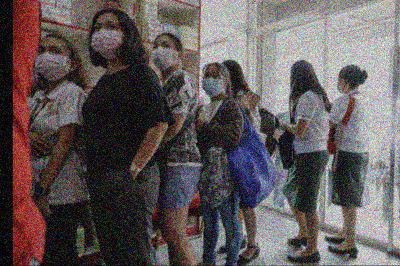with_mask: (89, 19, 124, 60), (35, 42, 71, 81), (151, 40, 175, 70), (201, 70, 224, 97), (335, 76, 347, 96)
